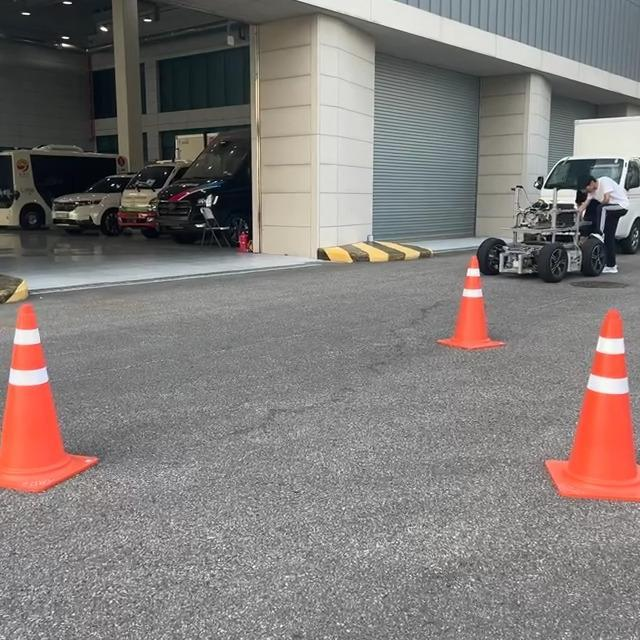fallen_object: (0, 276, 102, 502), (539, 299, 640, 515), (440, 265, 522, 375)
